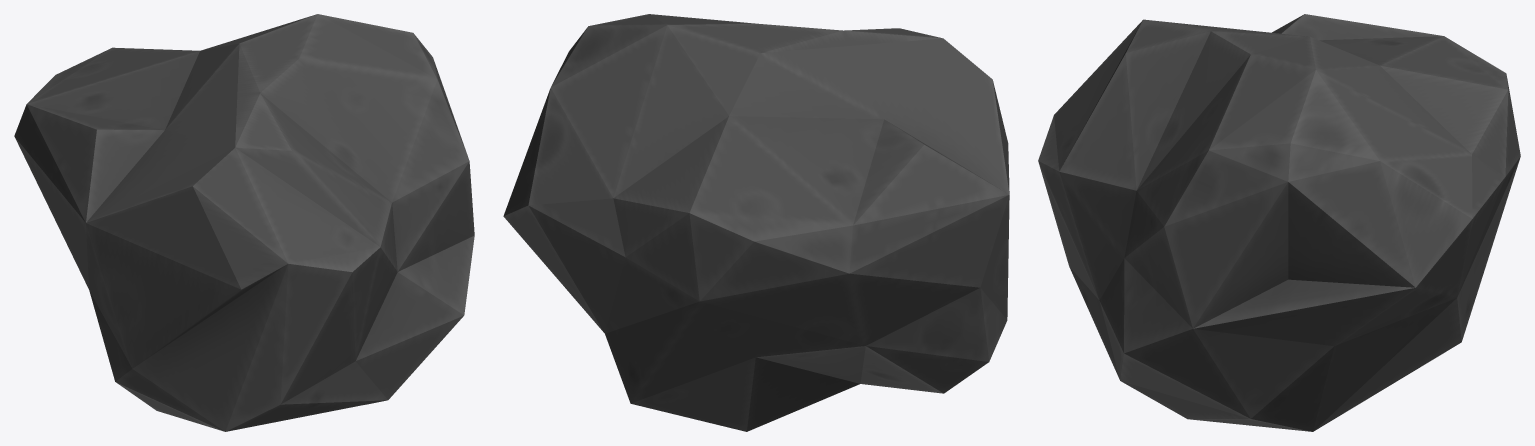
The model's file is rock_1.obj.
3 renders of one model, left to right at view 1: azimuth 30°, elevation 25°; view 2: azimuth 150°, elevation 25°; view 3: azimuth 270°, elevation 25°, orthographic. The views are drawn at different scales.
Visible parts, largest first — view 1: Asteroids_Mesh.001; view 2: Asteroids_Mesh.001; view 3: Asteroids_Mesh.001.
Boxes of the visible parts, <box> form: Asteroids_Mesh.001: <box>14,14,474,431</box>; Asteroids_Mesh.001: <box>503,14,1009,431</box>; Asteroids_Mesh.001: <box>1038,14,1520,431</box>.
Bounding box in the file's own units: 1.74 × 1.56 × 1.89.
